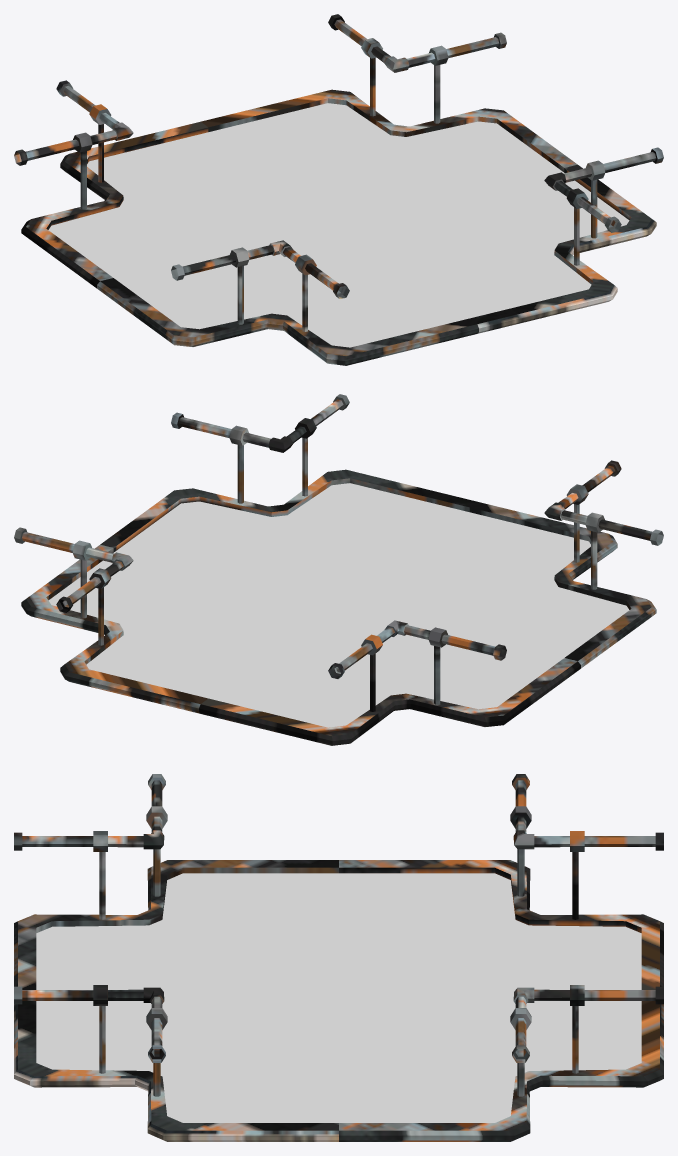
Rendered from 4 Way Walkway.fbx.
3 renders of one model, top to bottom at view 1: azimuth 30°, elevation 25°; view 2: azimuth 150°, elevation 25°; view 3: azimuth 270°, elevation 25°, orthographic. The views are drawn at different scales.
Parts seen in each view (by area): view 1: 4 Way Walkway; view 2: 4 Way Walkway; view 3: 4 Way Walkway.
Boxes of the visible parts, x1,y1,x2,y2 form: 4 Way Walkway: [14, 14, 663, 365]; 4 Way Walkway: [14, 394, 663, 745]; 4 Way Walkway: [14, 774, 663, 1141].
Size of the model in its own units: 500 by 81.82 by 500.
